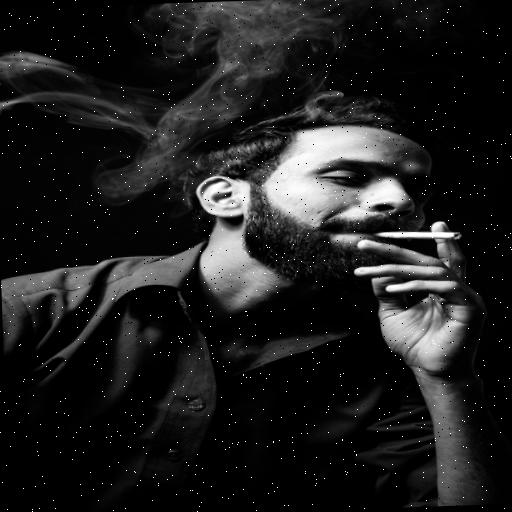merokok: (290, 147, 463, 296)
